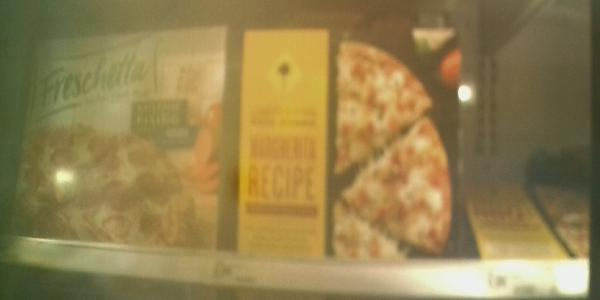pizza1: (231, 26, 460, 259), (12, 19, 229, 246)
